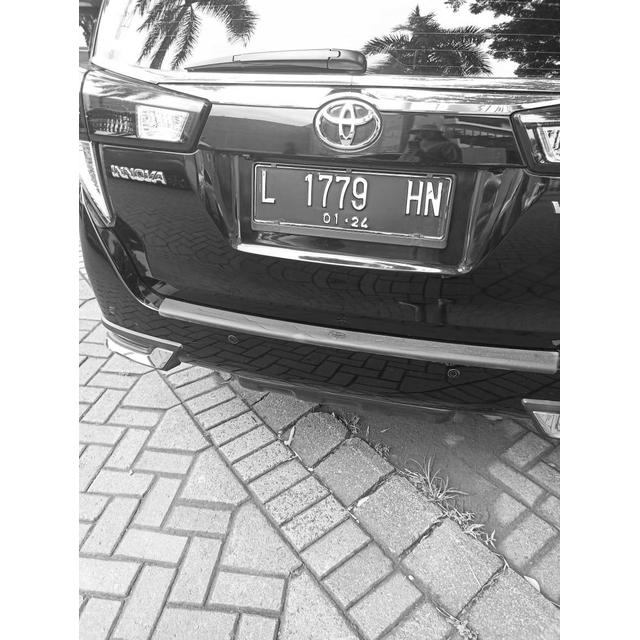license: (259, 167, 445, 237)
